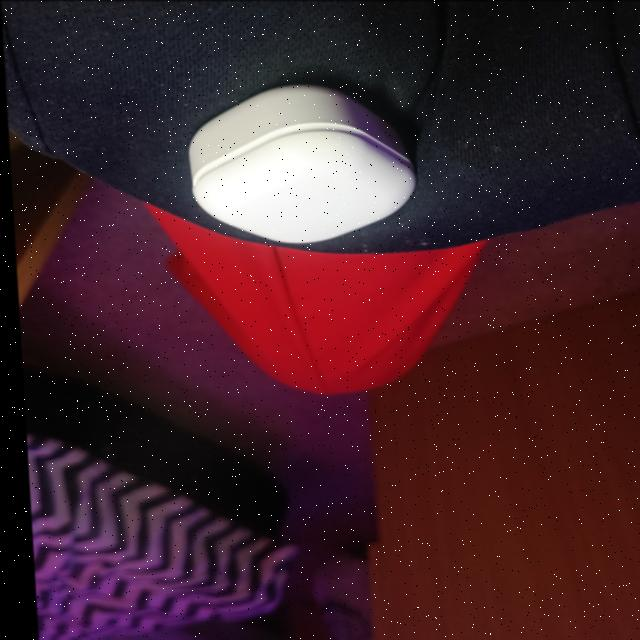headphones: (186, 84, 413, 243)
